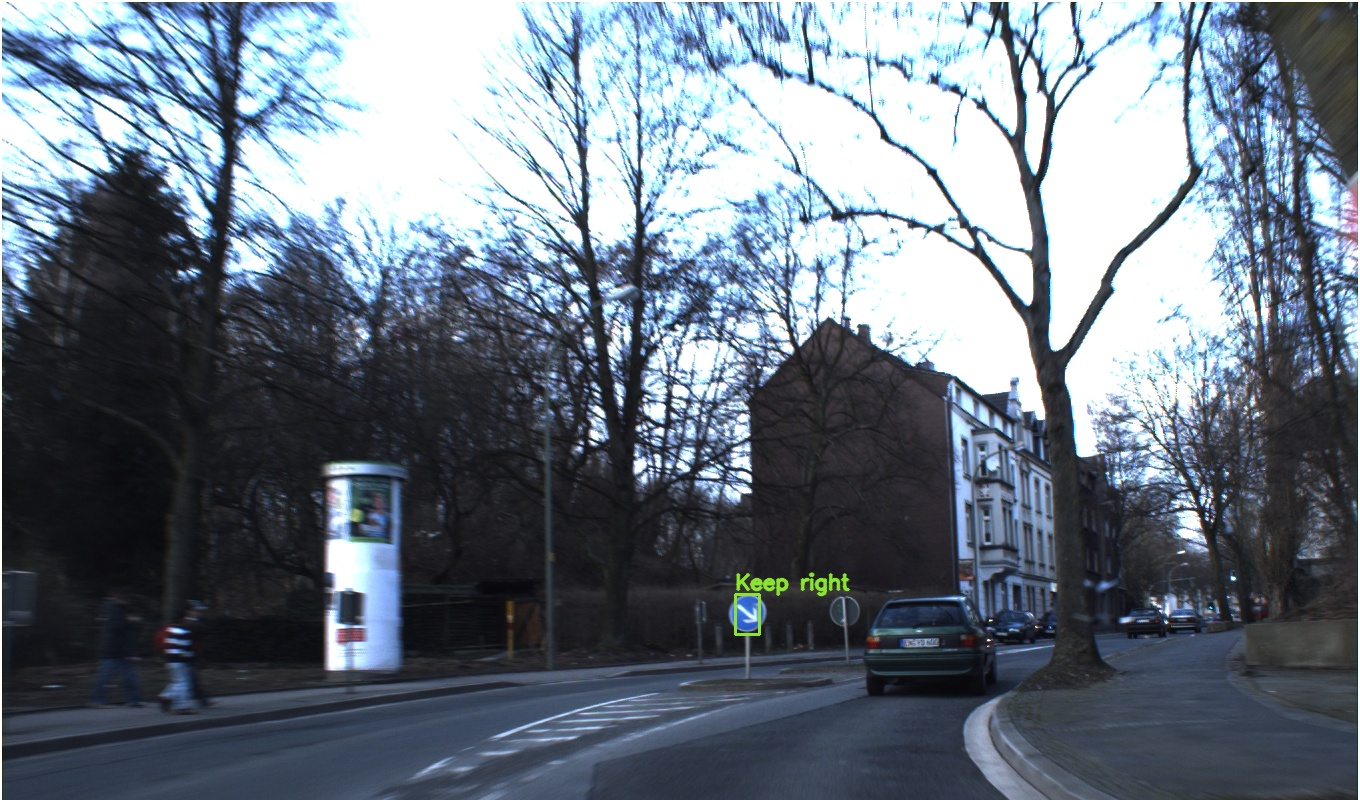Ahead only: (692, 410, 717, 436)
